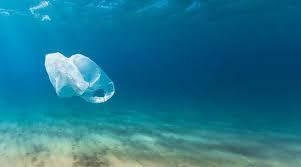Plastic bag: (40, 40, 123, 110)
